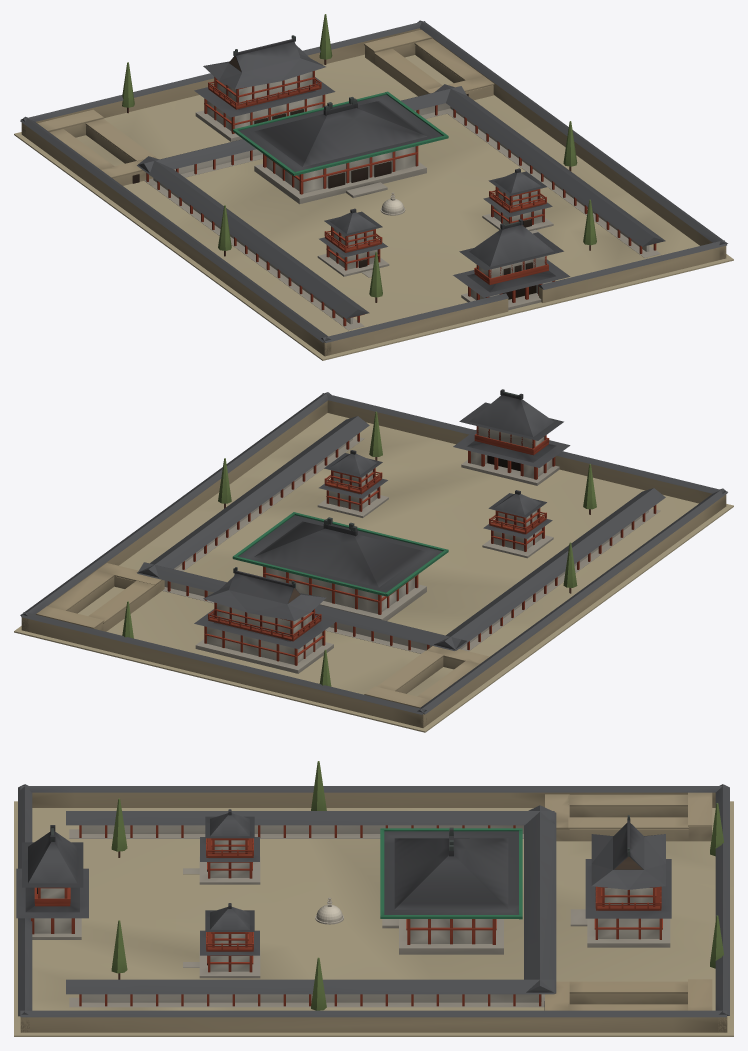
File: longxing-si.glb
The picture shows the model from 3 angles, top to bottom: view 1: azimuth 30°, elevation 25°; view 2: azimuth 150°, elevation 25°; view 3: azimuth 270°, elevation 25°; orthographic projection. The views are drawn at different scales.
Parts seen in each view (by area): view 1: p0_cloister, p1_stupa, p2_trees; view 2: p0_cloister, p1_stupa, p2_trees; view 3: p0_cloister, p2_trees, p1_stupa.
Part boxes in pixels (bbox=[...]): p0_cloister: bbox=[14, 20, 733, 360]; p1_stupa: bbox=[37, 29, 554, 310]; p2_trees: bbox=[122, 14, 596, 302]; p0_cloister: bbox=[14, 392, 733, 732]; p1_stupa: bbox=[36, 426, 559, 708]; p2_trees: bbox=[122, 389, 596, 686]; p0_cloister: bbox=[14, 784, 733, 1036]; p2_trees: bbox=[16, 761, 723, 1010]; p1_stupa: bbox=[31, 792, 712, 1010].
Size of the model in its own units: 100 by 17.8 by 130.
